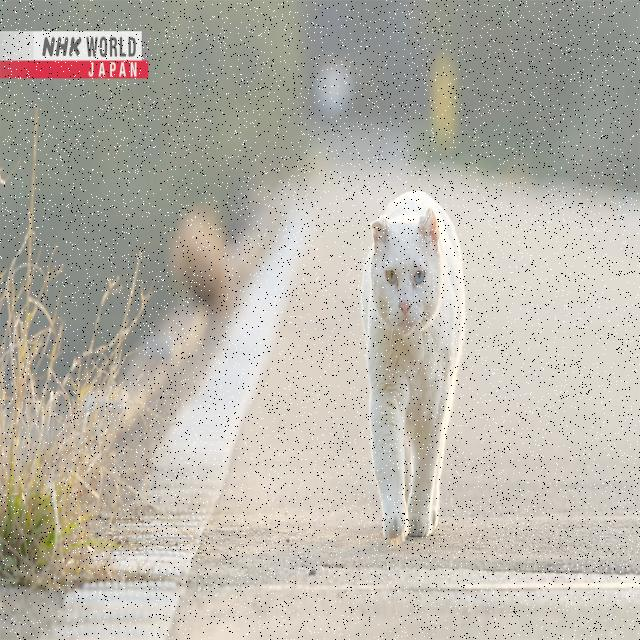cat: (361, 191, 465, 544)
